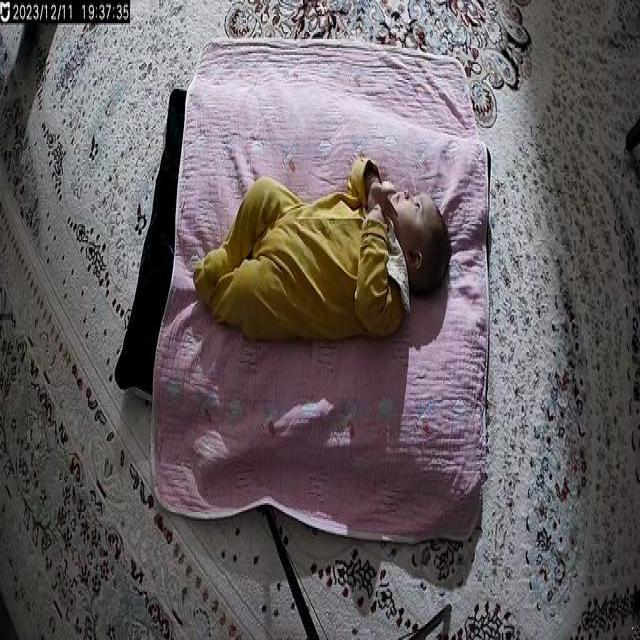baby: (192, 156, 450, 349)
